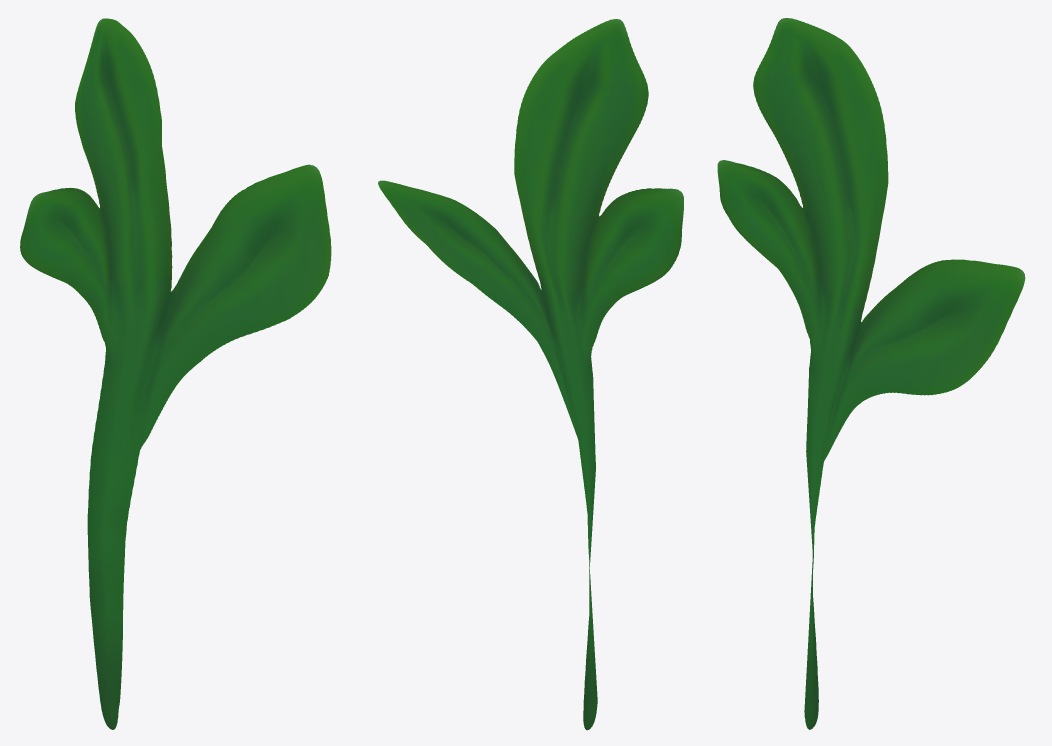
The model's file is GrassV0.fbx.
The picture shows the model from 3 angles, left to right: view 1: azimuth 30°, elevation 25°; view 2: azimuth 150°, elevation 25°; view 3: azimuth 330°, elevation 25°; orthographic projection.
Visible parts, largest first — view 1: Plane.007; view 2: Plane.007; view 3: Plane.007.
Part boxes in pixels (bbox=[...]): Plane.007: bbox=[20, 18, 331, 729]; Plane.007: bbox=[378, 19, 683, 730]; Plane.007: bbox=[717, 18, 1025, 729].
Bounding box in the file's own units: 42.26 × 93.62 × 10.52.
